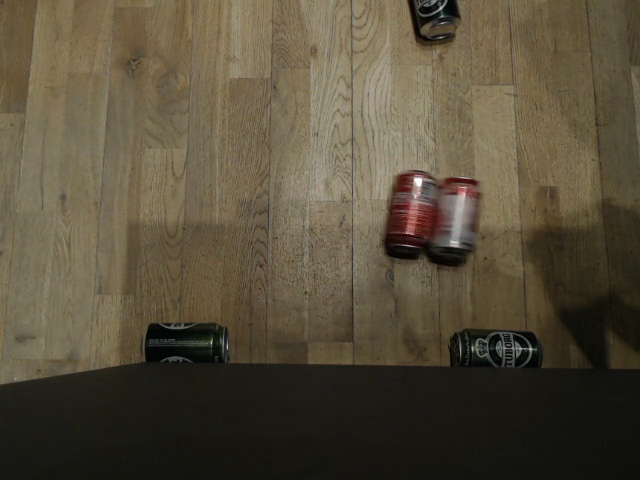beer: (450, 326, 541, 372), (142, 320, 227, 364), (405, 0, 463, 43)
cola: (381, 166, 438, 256), (431, 175, 483, 257)
